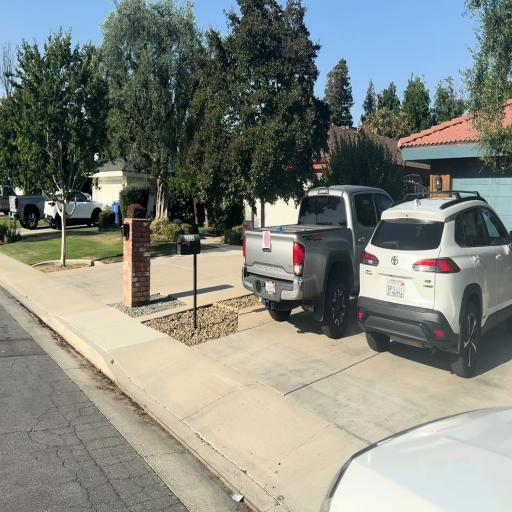bullseye: (263, 231, 270, 248)
